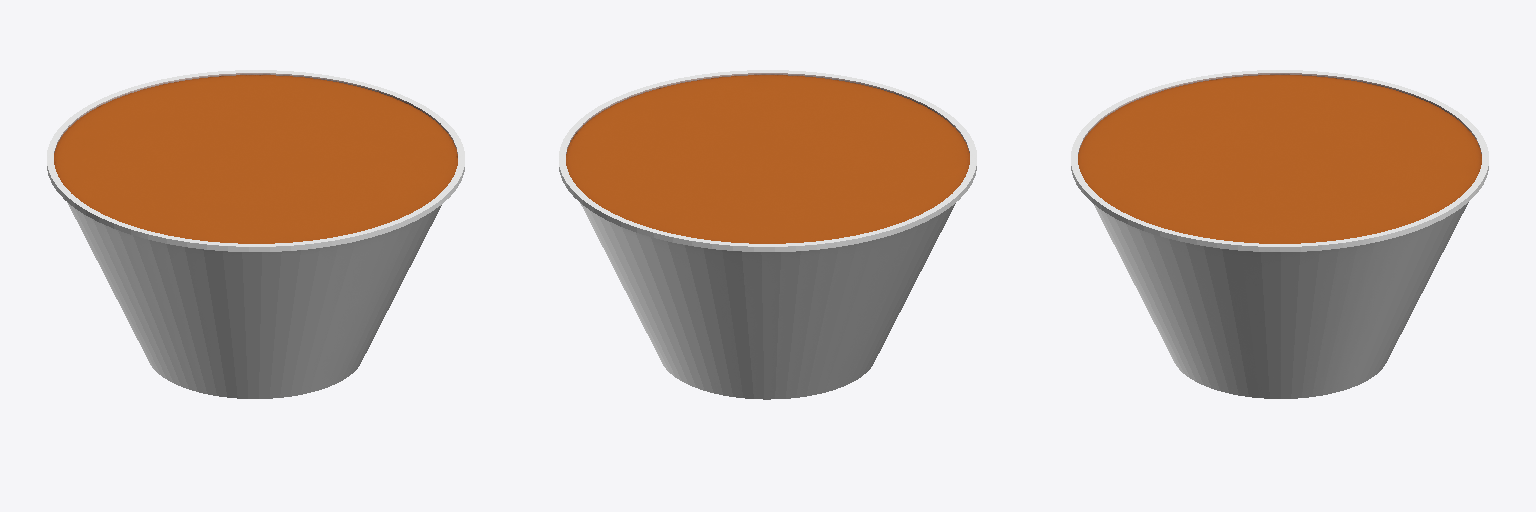
3 views of the same model, side by side, from view 1: azimuth 30°, elevation 25°; view 2: azimuth 150°, elevation 25°; view 3: azimuth 270°, elevation 25° (orthographic).
Visible parts, largest first — view 1: glass_001, solid_001; view 2: glass_001, solid_001; view 3: glass_001, solid_001.
Part boxes in pixels (bbox=[...]): glass_001: bbox=[54, 75, 457, 243]; solid_001: bbox=[47, 70, 464, 398]; glass_001: bbox=[566, 75, 969, 243]; solid_001: bbox=[559, 70, 976, 399]; glass_001: bbox=[1078, 75, 1481, 243]; solid_001: bbox=[1071, 70, 1488, 398].
Size of the model in its own units: 1.97 by 1.01 by 1.97.
Materials: 1 (1 with a texture image).